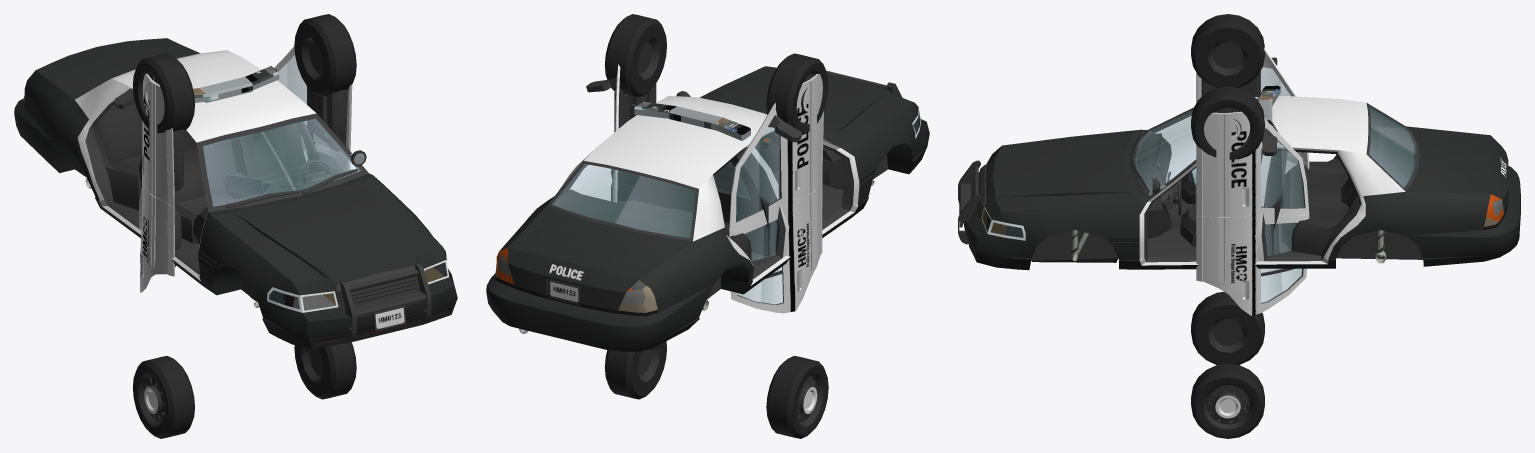
The model's file is carro_policia_aberto.glb.
3 renders of one model, left to right at view 1: azimuth 30°, elevation 25°; view 2: azimuth 150°, elevation 25°; view 3: azimuth 270°, elevation 25°, orthographic. The views are drawn at different scales.
Visible parts, largest first — view 1: Police_base, Police_hood, P_Wheels_B, Police_trunk, P_WheelFL, PDoor_FR, P_WheelFR, PDoor_BR, PDoor_FL, Police_light, PDoor_BL, Police_notebook; view 2: Police_base, Police_trunk, PDoor_FR, P_Wheels_B, PDoor_BR, Police_hood, P_WheelFL, P_WheelFR, Police_light, PDoor_FL; view 3: Police_base, Police_hood, PDoor_FL, P_Wheels_B, PDoor_BL, Police_trunk, P_WheelFR, P_WheelFL, PDoor_FR, Police_light.
Boxes of the visible parts, x1,y1,x2,y2 form: Police_base: (14, 45, 457, 348); Police_hood: (211, 175, 442, 282); P_Wheels_B: (132, 342, 356, 438); Police_trunk: (36, 38, 198, 99); P_WheelFL: (294, 14, 356, 97); PDoor_FR: (114, 74, 184, 206); P_WheelFR: (132, 53, 194, 133); PDoor_BR: (140, 177, 181, 292); PDoor_FL: (274, 46, 352, 163); Police_light: (193, 66, 279, 102); PDoor_BL: (301, 141, 350, 174); Police_notebook: (225, 173, 273, 195); Police_base: (486, 69, 929, 351); Police_trunk: (507, 206, 692, 313); PDoor_FR: (729, 73, 823, 230); P_Wheels_B: (604, 341, 828, 438); PDoor_BR: (729, 182, 822, 313); Police_hood: (700, 66, 914, 145); P_WheelFL: (604, 14, 666, 96); P_WheelFR: (766, 53, 828, 134); Police_light: (634, 101, 750, 140); PDoor_FL: (586, 64, 656, 202); Police_base: (958, 96, 1520, 270); Police_hood: (993, 129, 1140, 212); PDoor_FL: (1196, 111, 1309, 216); P_Wheels_B: (1191, 292, 1264, 438); PDoor_BL: (1196, 214, 1309, 315); Police_trunk: (1406, 126, 1508, 216); P_WheelFR: (1191, 14, 1264, 87); P_WheelFL: (1191, 86, 1264, 159); PDoor_FR: (1196, 47, 1309, 162); Police_light: (1257, 85, 1280, 134).
Size of the model in its own units: 2.16 by 3.65 by 5.41.
Materials: 4 (4 with a texture image).
